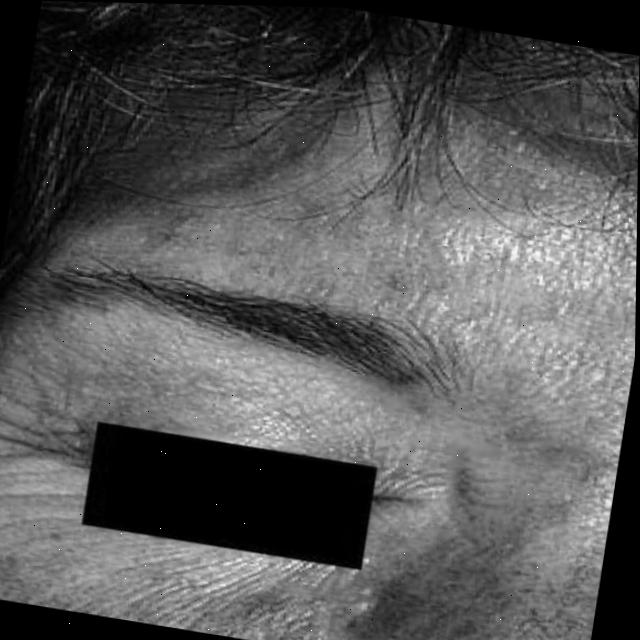Rosacea: (177, 184, 637, 370), (0, 536, 349, 640), (431, 458, 615, 640)
